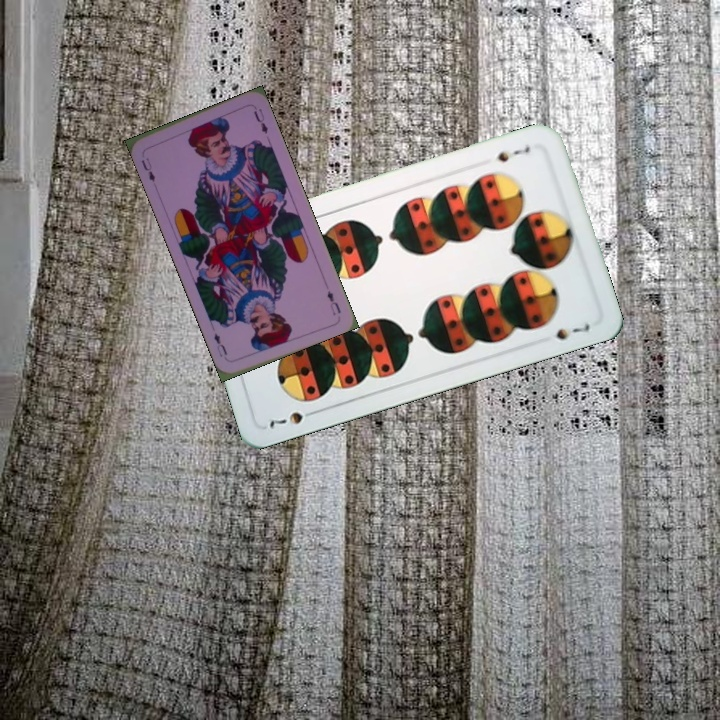EU: (323, 286, 343, 318), (137, 154, 158, 184)
S7: (265, 406, 321, 431), (493, 142, 533, 165)
